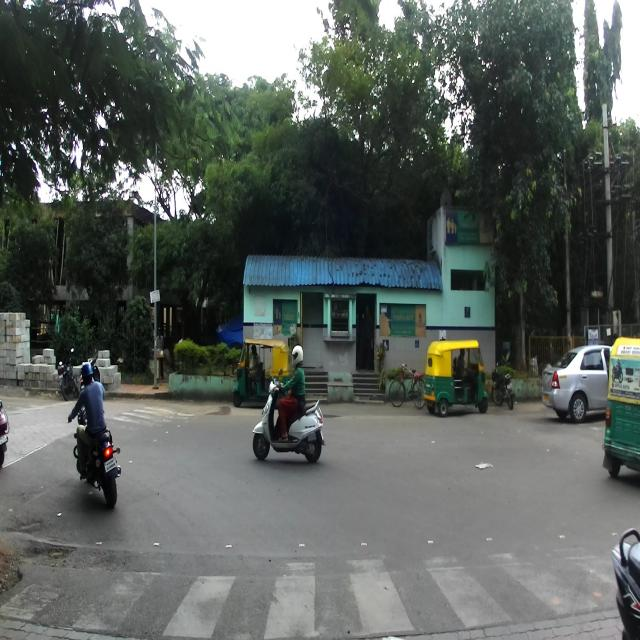Car_Toyota: (540, 345, 613, 424)
autorickshaw: (423, 338, 496, 417), (231, 337, 292, 406)
motorcycle_bajaj: (66, 398, 128, 503)
scooter: (252, 369, 328, 466)
